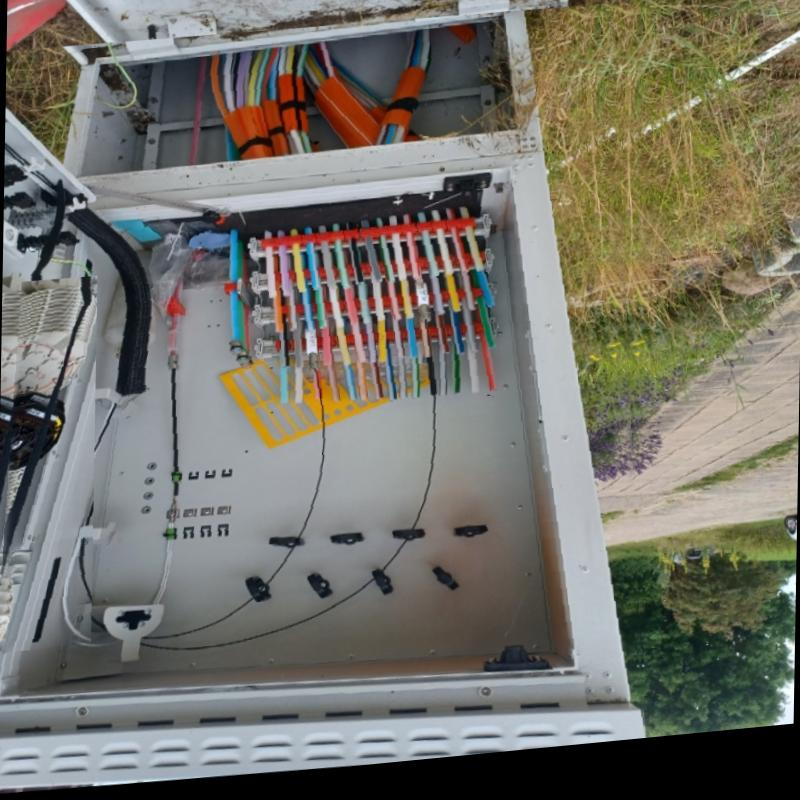NT-Gehause: (0, 20, 644, 786)
Spleiskassetten: (0, 279, 97, 649)
